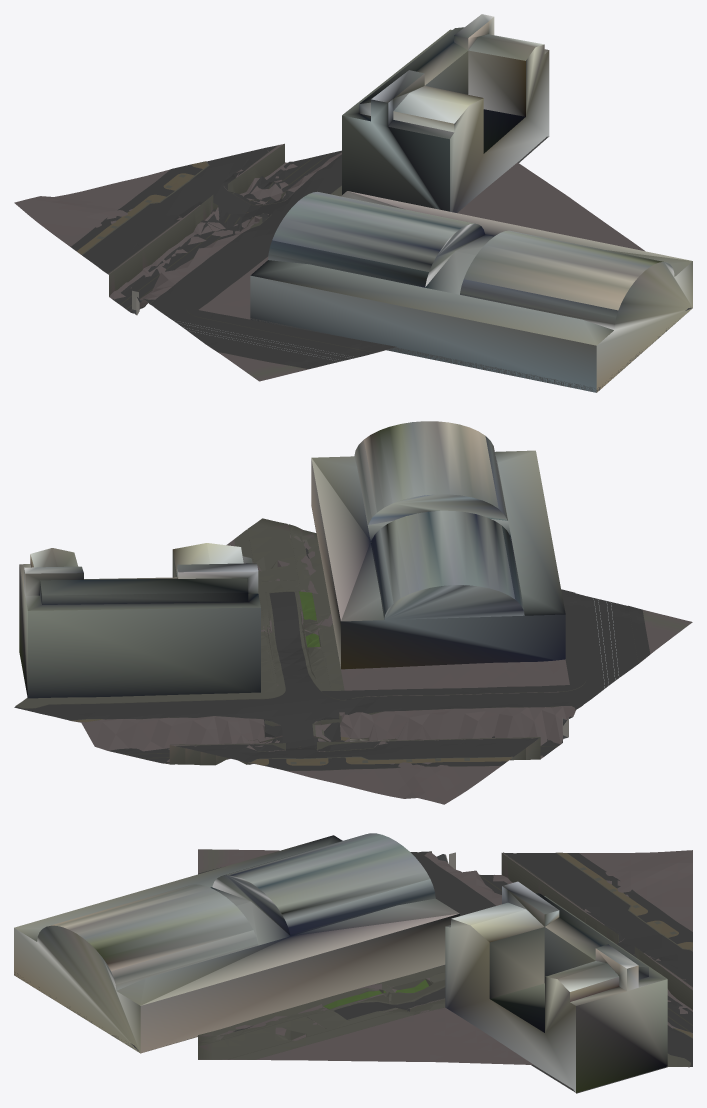
3 views of the same model, one above another, from view 1: azimuth 30°, elevation 25°; view 2: azimuth 150°, elevation 25°; view 3: azimuth 270°, elevation 25° (orthographic).
Parts seen in each view (by area): view 1: c_m10_m01; view 2: c_m10_m01; view 3: c_m10_m01.
Part boxes in pixels (box(x1,y1,x2,y2)): c_m10_m01: box(14, 14, 692, 392); c_m10_m01: box(14, 421, 692, 804); c_m10_m01: box(14, 833, 692, 1093).
Size of the model in its own units: 144 by 37.09 by 176.
